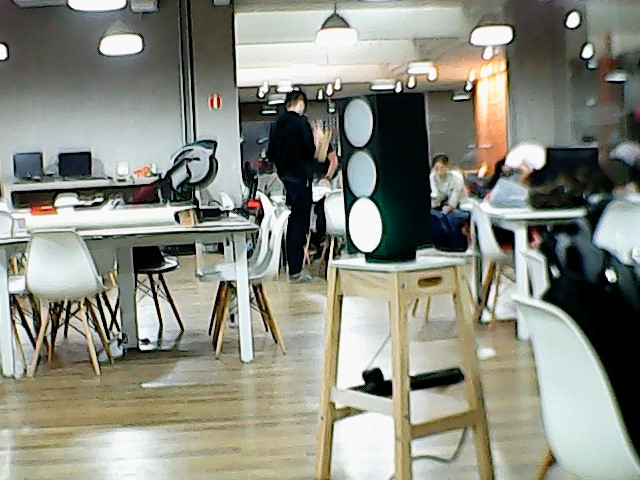verde: (321, 89, 440, 256)
